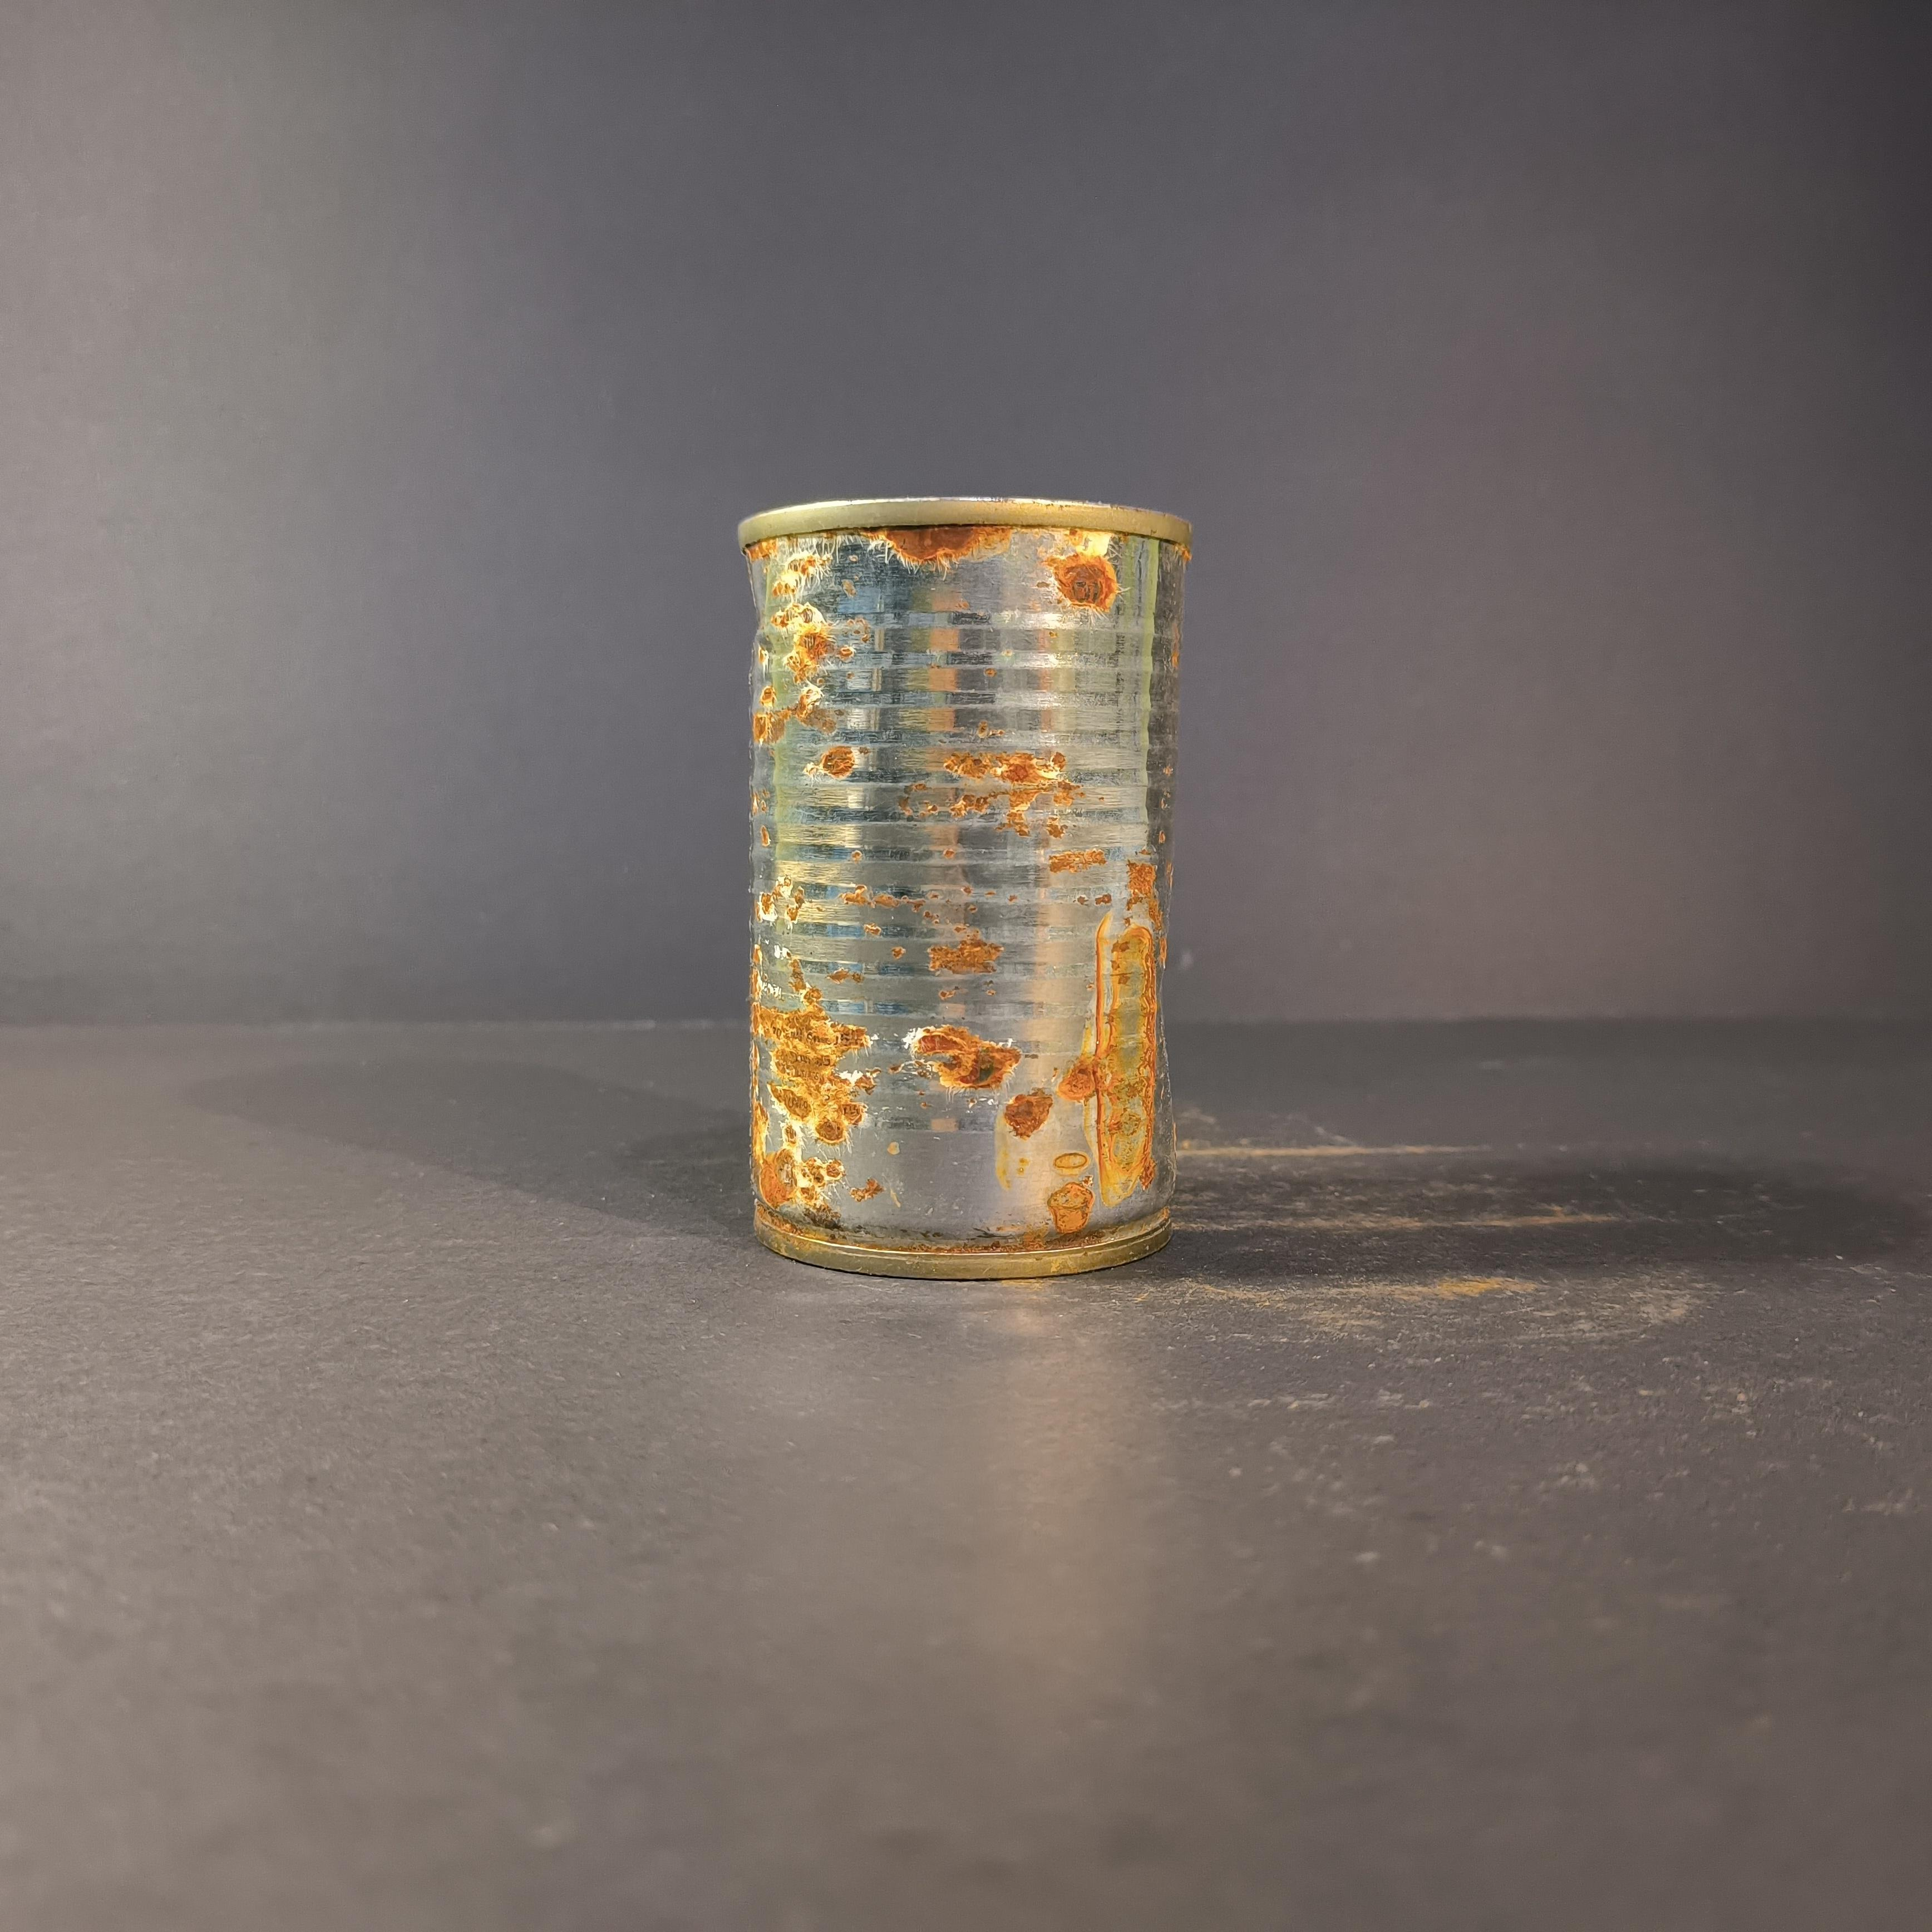Rusted: (704, 471, 1215, 1332)
